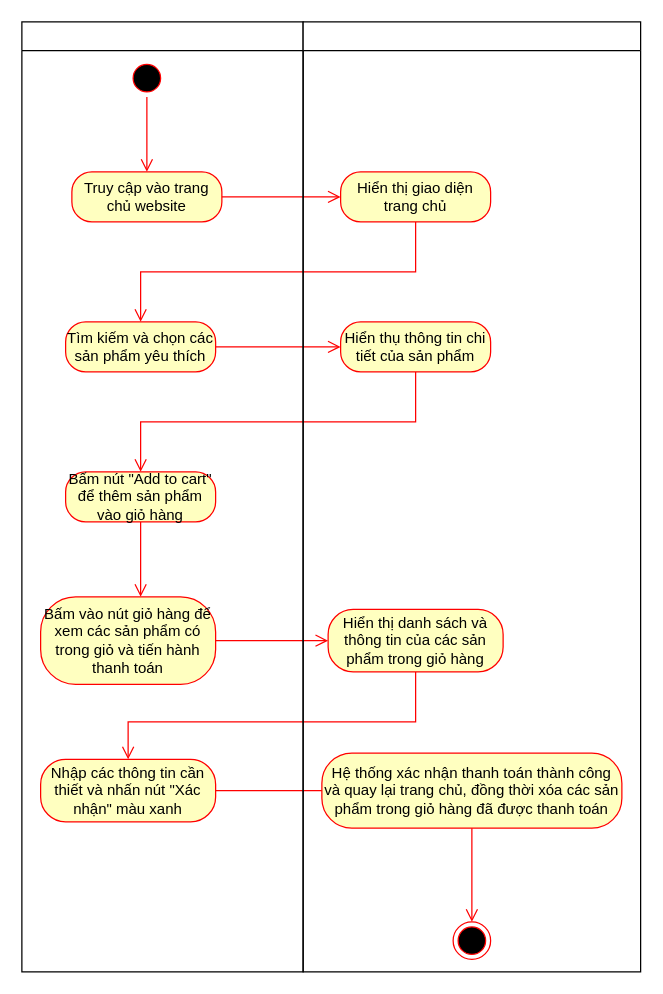
The diagram is 663 pixels wide and 994 high, and some of its shapes have lost their labels. The shapes that lost their labels are listed below. From the top down, each one's box as (x1, y1, x2, y2) in pixels, then its label:
(21, 21, 303, 972): User
(302, 21, 641, 972): System
